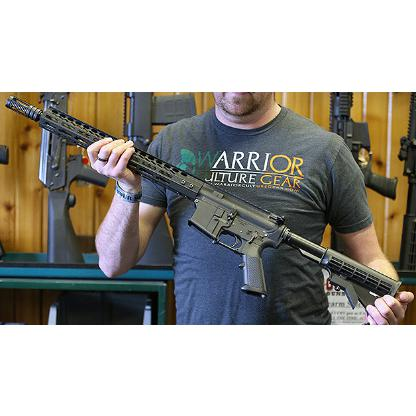gun: (10, 98, 404, 312)
